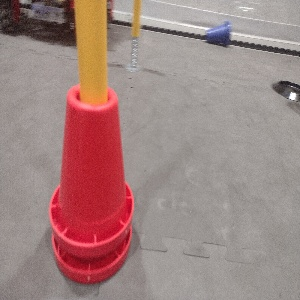Blue_1: (197, 11, 235, 51)
Red_2: (44, 72, 136, 286)
